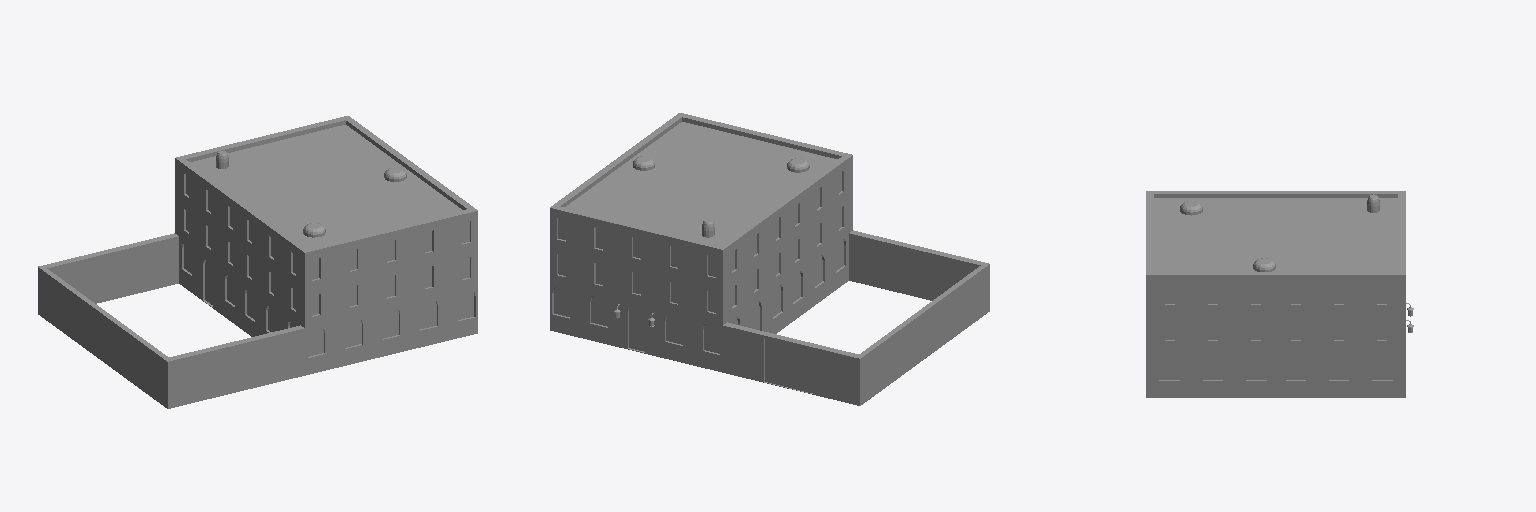
Rendered from jail.obj.
The picture shows the model from 3 angles: view 1: azimuth 30°, elevation 25°; view 2: azimuth 150°, elevation 25°; view 3: azimuth 270°, elevation 25°; orthographic projection.
Visible parts, largest first — view 1: 10082_Police_Station_V1_Max2008; view 2: 10082_Police_Station_V1_Max2008; view 3: 10082_Police_Station_V1_Max2008.
Part boxes in pixels (x1,y1,x2,y2): 10082_Police_Station_V1_Max2008: (38, 116, 477, 408); 10082_Police_Station_V1_Max2008: (550, 113, 989, 405); 10082_Police_Station_V1_Max2008: (1146, 191, 1413, 397).
Size of the model in its own units: 2.07 by 0.8433 by 1.55.